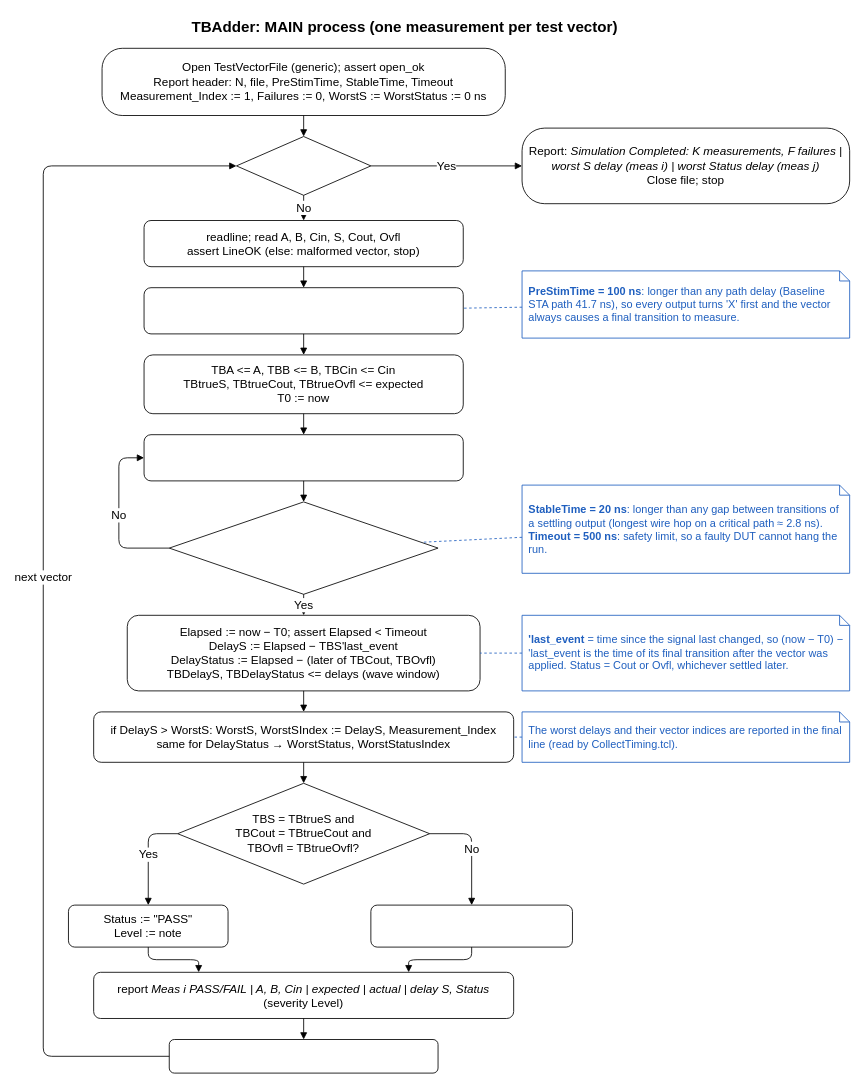
The diagram is 864 pixels wide and 1088 high, and some of its shapes have lost their labels. The centre of each missing label's shape, as x and y in pixels:
endfile?: the point at 303,165
Measurement_Index := Measurement_Index + 1: the point at 303,1056
No output event for StableTime, or now − T0 ≥ Timeout?: the point at 303,547
Status := "FAIL", Level := error Failures := Failures + 1: the point at 471,925
TBA, TBB, TBCin <= 'X' wait for PreStimTime (100 ns): the point at 303,310
wait on TBS, TBCout, TBOvfl for StableTime (20 ns): the point at 303,457
